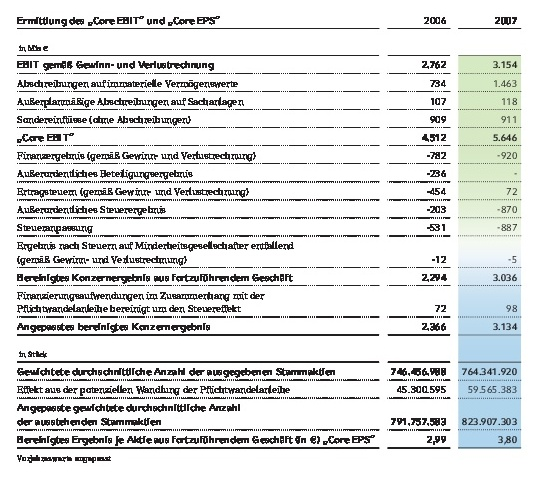table: (0, 0, 539, 480)
